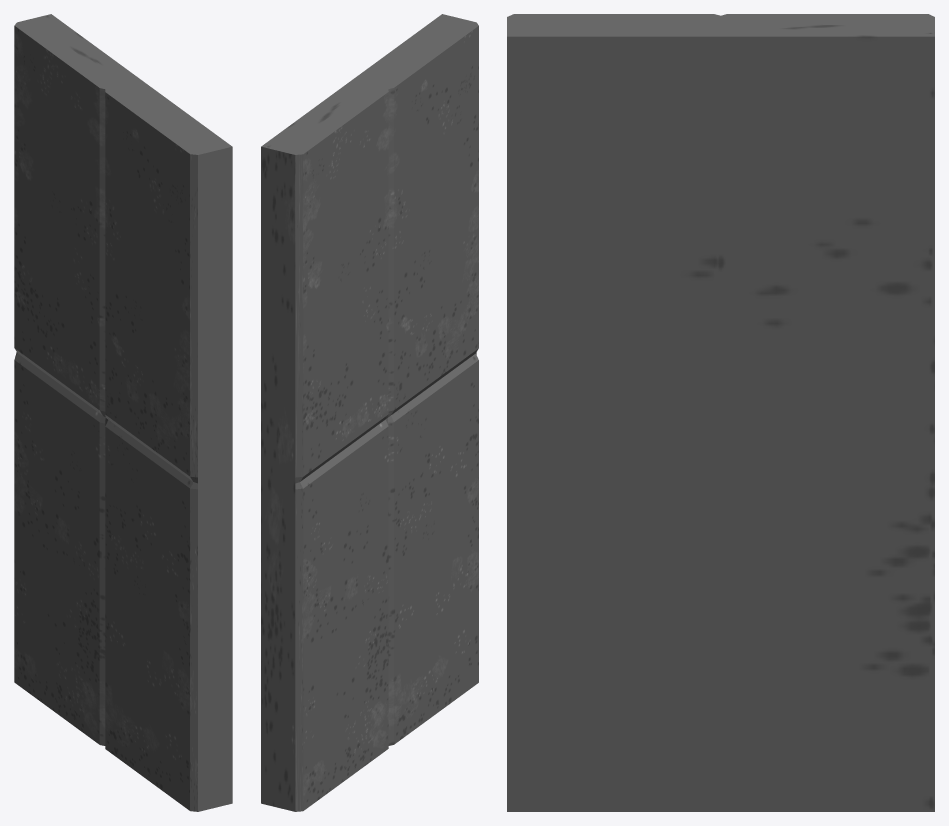
Rendered from Concrete_Wall.fbx.
3 views of the same model, side by side, from view 1: azimuth 30°, elevation 25°; view 2: azimuth 150°, elevation 25°; view 3: azimuth 270°, elevation 25° (orthographic). The views are drawn at different scales.
Parts seen in each view (by area): view 1: Concrete_Wall; view 2: Concrete_Wall; view 3: Concrete_Wall.
Part boxes in pixels (bbox=[...]): Concrete_Wall: bbox=[14, 14, 232, 811]; Concrete_Wall: bbox=[261, 14, 478, 811]; Concrete_Wall: bbox=[507, 14, 934, 811].
Size of the model in its own units: 25.19 by 400 by 200.
Materials: 1 (1 with a texture image).
